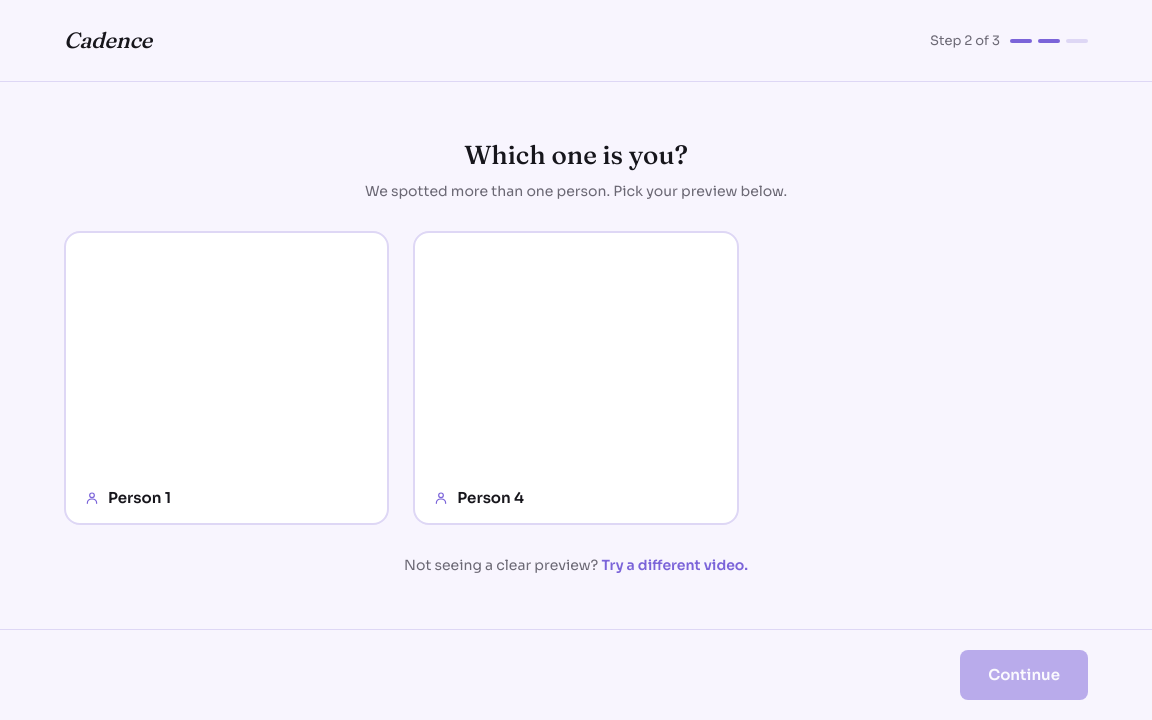
PickClient › won't continue until someone is picked
This screenshot has width=1152, height=720.
Expected: the text "Person 1" is shown, x1=108 y1=486 x2=171 y2=509
Expected: the button "Continue" is disabled, x1=960 y1=650 x2=1088 y2=700
Click the button "Person 4".
click(486, 497)  # box x1=413 y1=230 x2=739 y2=525
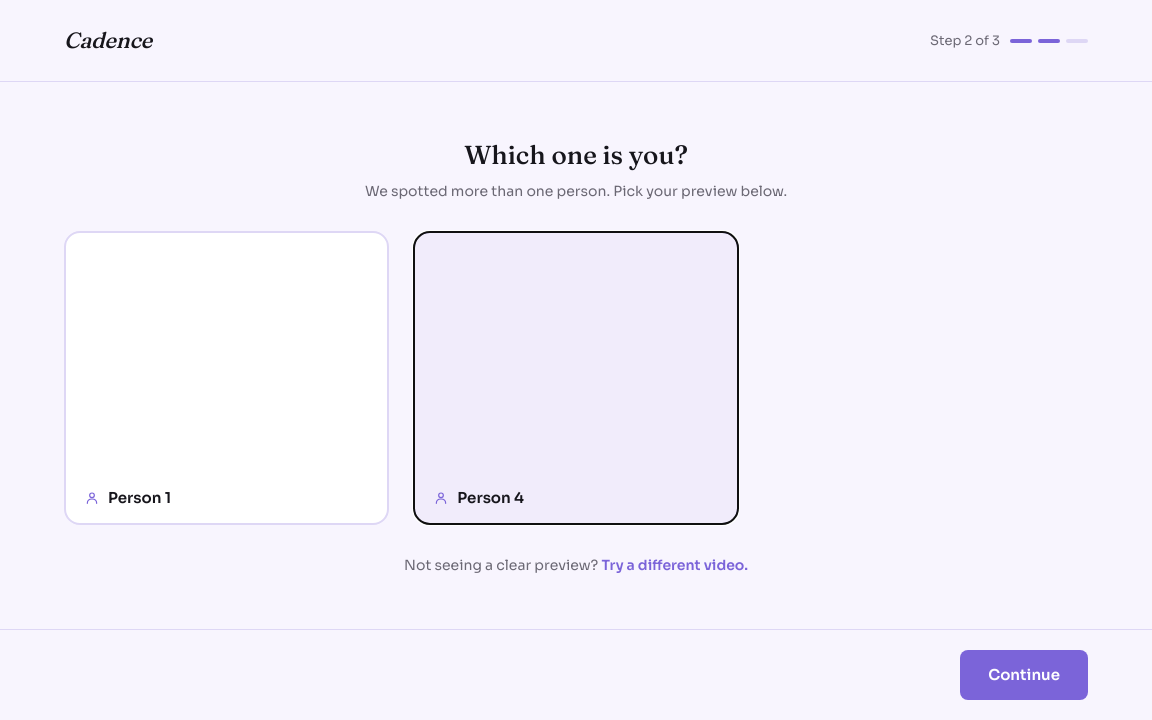
Now the button "Continue" is enabled, box x1=960 y1=650 x2=1088 y2=700
